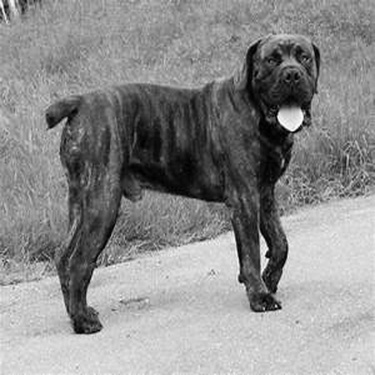dog: (22, 25, 335, 339)
